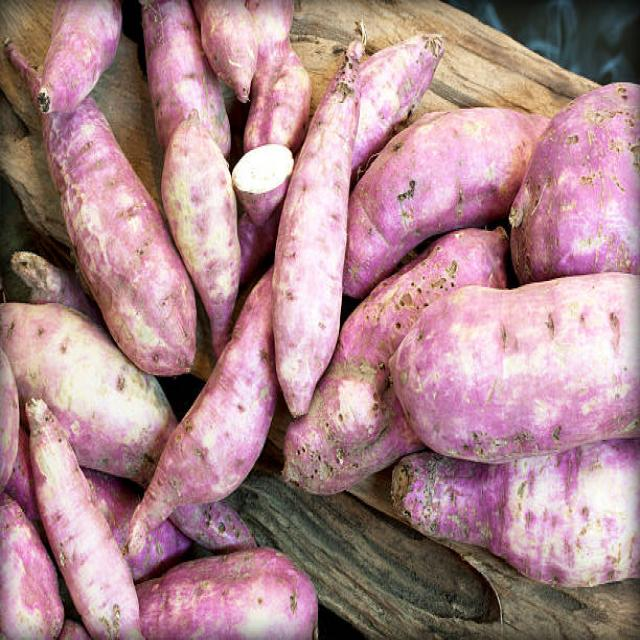Sweet Potato: (397, 278, 640, 458), (394, 455, 640, 581), (383, 102, 514, 229), (147, 550, 318, 640), (66, 142, 157, 309), (273, 198, 339, 418), (169, 376, 261, 507), (166, 118, 237, 270), (25, 399, 88, 559), (36, 0, 122, 110), (196, 0, 258, 99)
